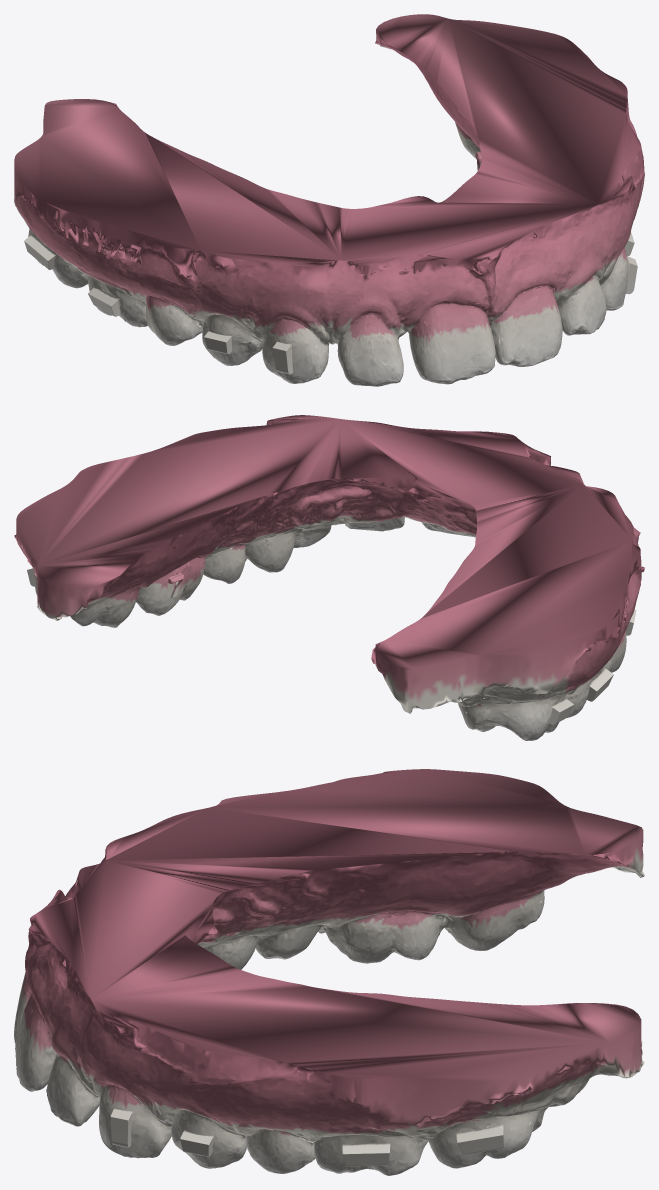
The model's file is Niya Priority Upper jaw - 07 - Model.glb.
3 renders of one model, top to bottom at view 1: azimuth 30°, elevation 25°; view 2: azimuth 150°, elevation 25°; view 3: azimuth 270°, elevation 25°, orthographic. The views are drawn at different scales.
Parts seen in each view (by area): view 1: Niya Priority Upper jaw - 07 - Model; view 2: Niya Priority Upper jaw - 07 - Model; view 3: Niya Priority Upper jaw - 07 - Model.
Boxes of the visible parts, left/top/right/bottom form: Niya Priority Upper jaw - 07 - Model: left=14, top=14, right=644, bottom=386; Niya Priority Upper jaw - 07 - Model: left=14, top=415, right=644, bottom=740; Niya Priority Upper jaw - 07 - Model: left=14, top=769, right=644, bottom=1175.
Size of the model in its own units: 66.35 by 13.71 by 56.69.
